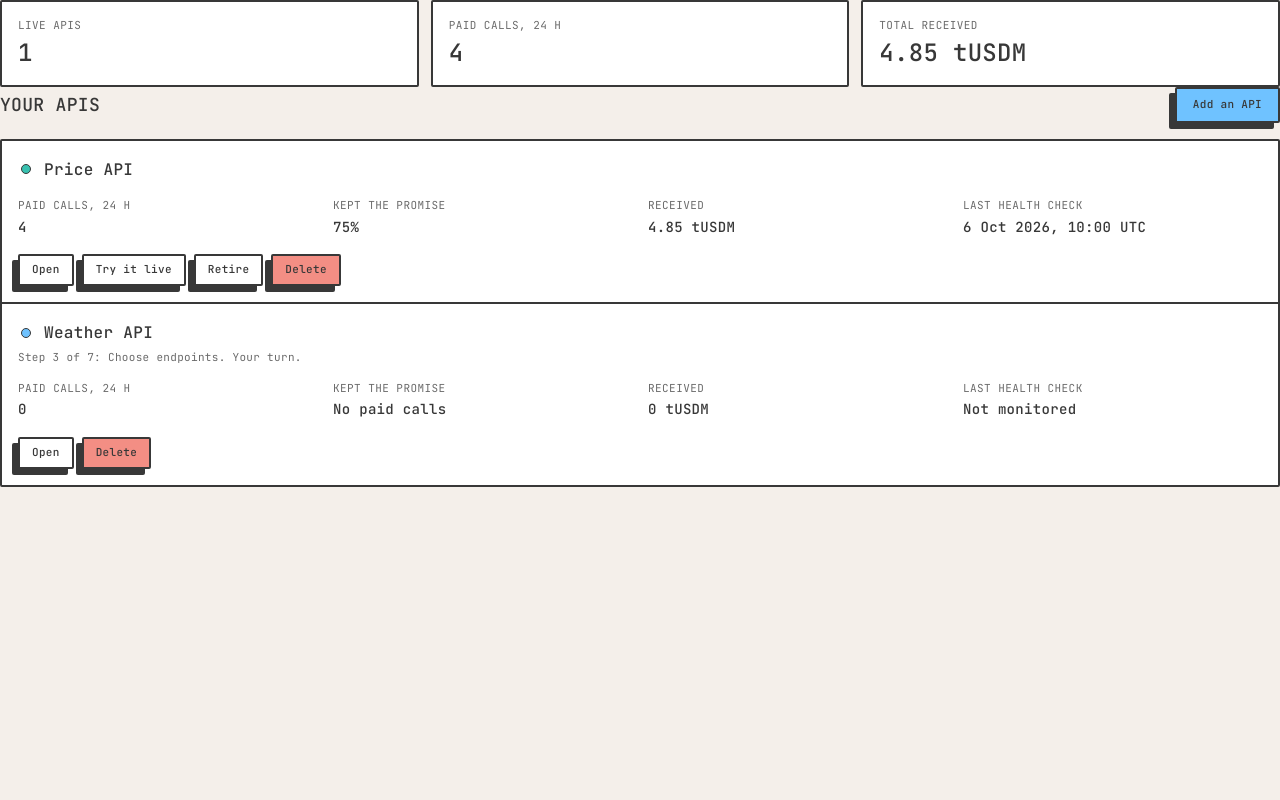
Test case: AccountApis › deletes after the name is typed, removes the row, updates totals and toasts
Click the button "Delete" below "No paid calls" at point(116, 453), box [82, 437, 151, 469]
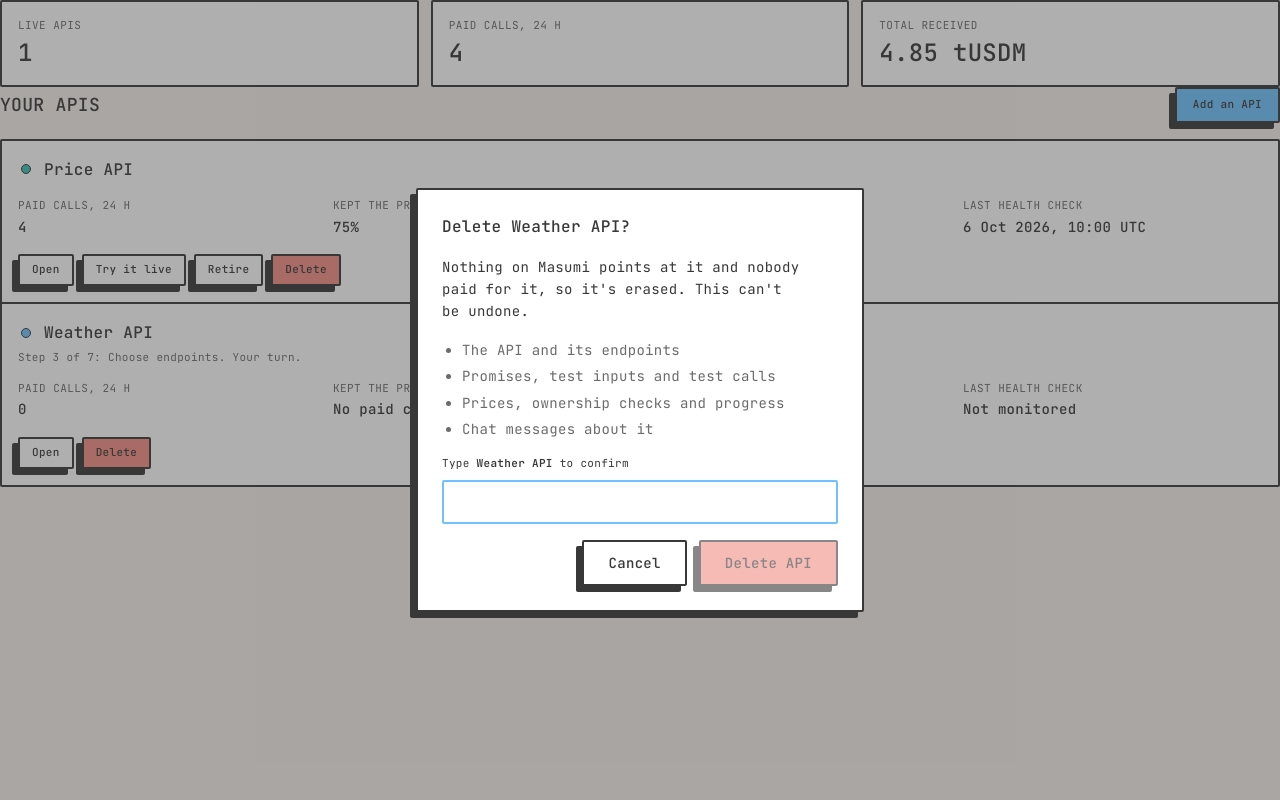
Type "Weather API" into the field labelled "Type Weather API to confirm" at point(640, 502), box [442, 480, 838, 524]
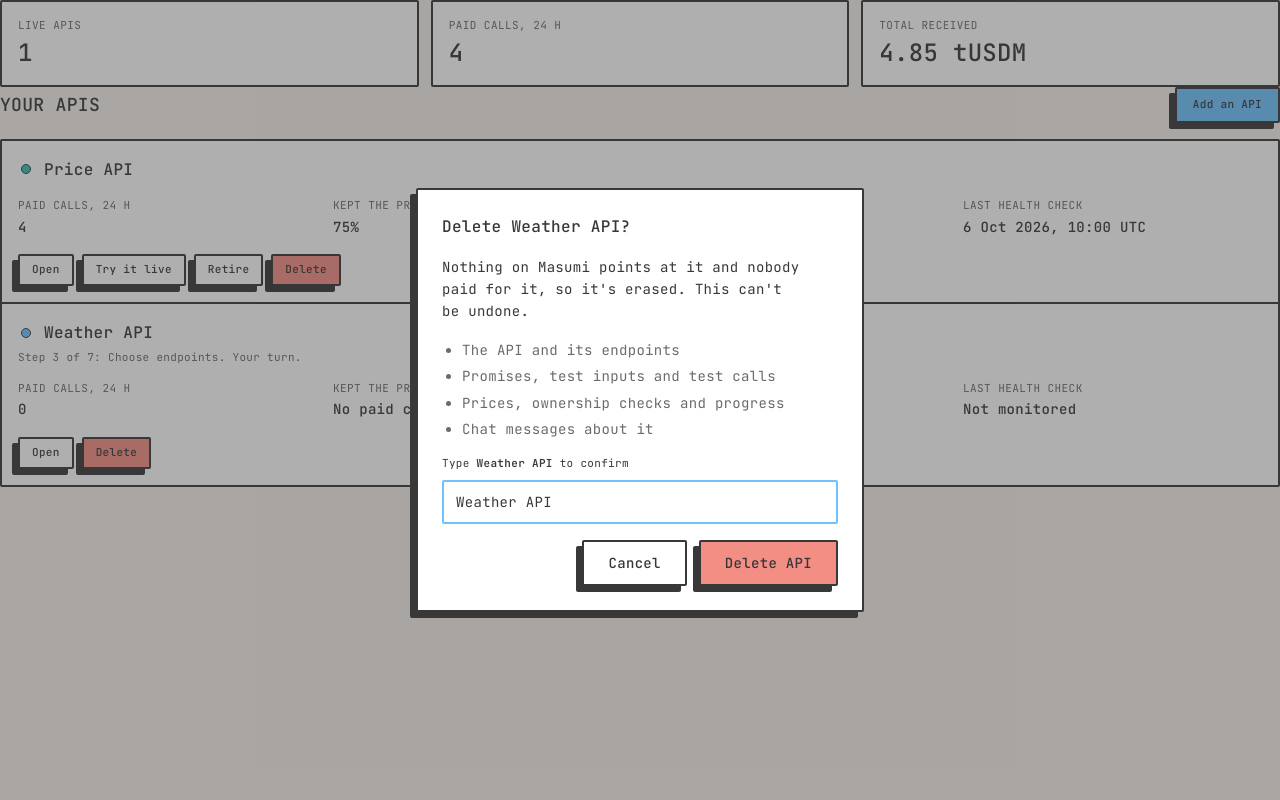
Click the button "Delete API" at point(768, 563), box [699, 540, 838, 586]
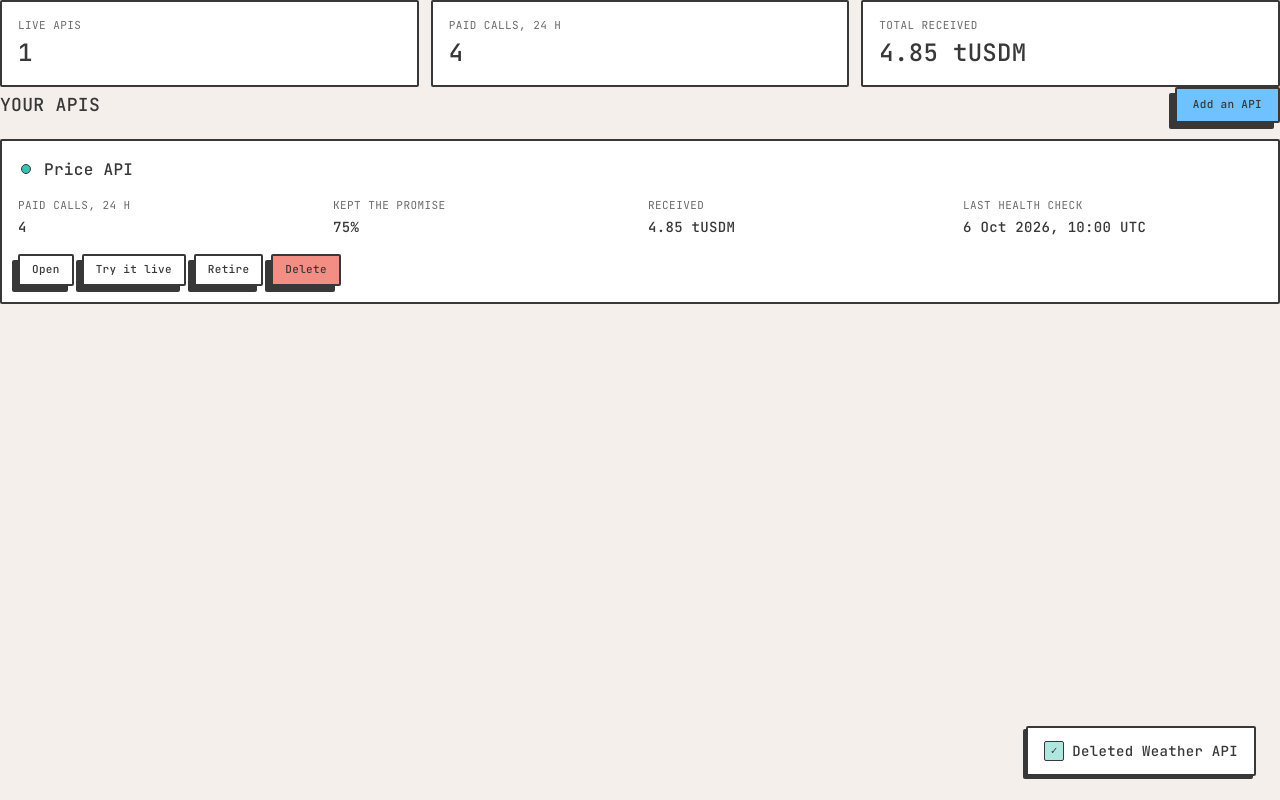
Expected: the list item "Price API" is shown, [2, 141, 1278, 302]
Result: the text "Deleted Weather API" is shown at [1072, 742, 1238, 760]
